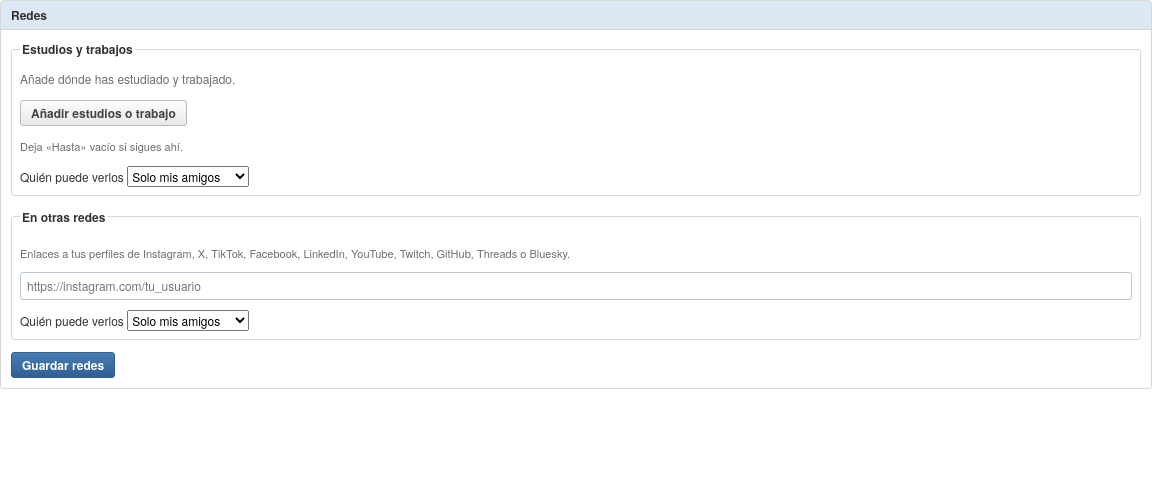
Test: Perfil: Redes, estado, espacio personal y tablón › saves studies, work and social links with their privacy
The image size is (1152, 493).
Click the button "Añadir estudios o trabajo" at point(103, 113), box [20,100,187,126]
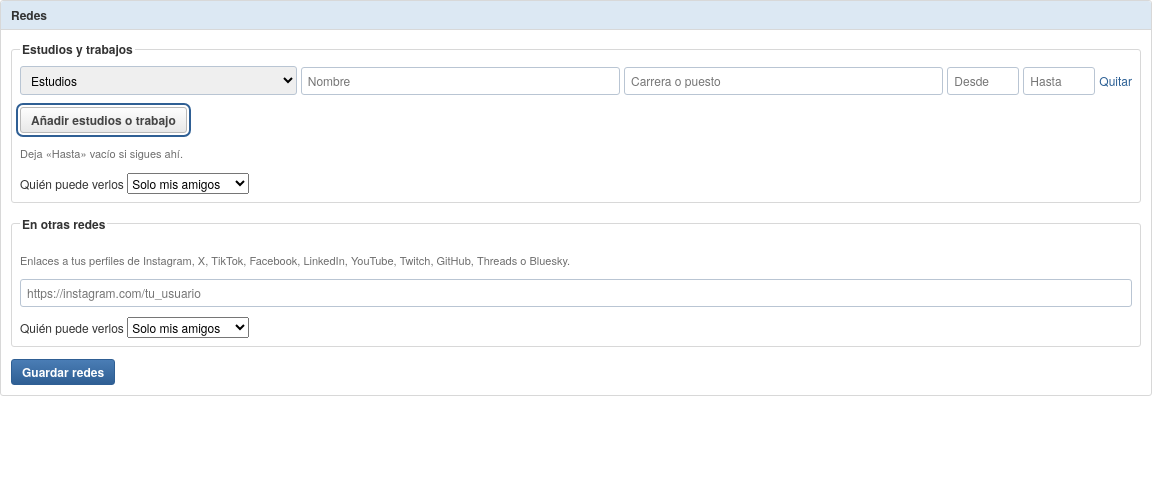
Type "UNED" into the field named "Nombre (universidad, empresa o colegio)" at point(460, 80), box [301,66,620,94]
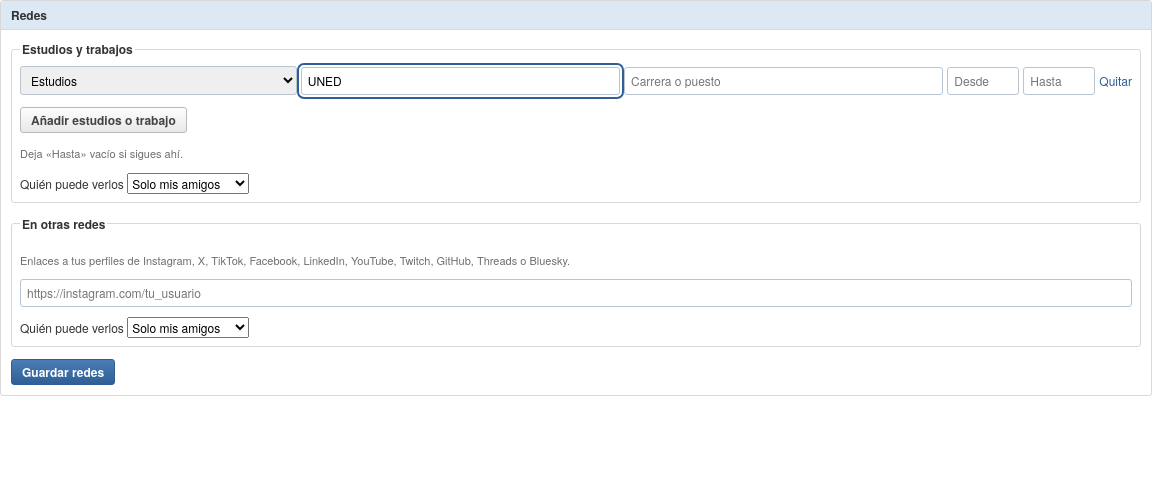
Type "2006" into the number field named "Desde (año)" at point(983, 80), box [947,66,1019,94]
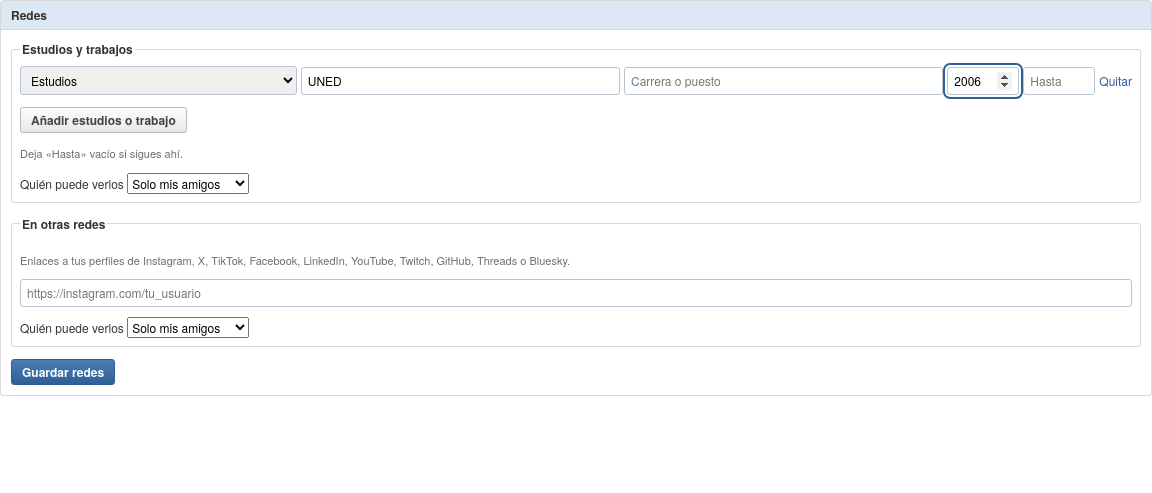
Type "https://instagram.com/ana" into the field named "Enlace 1" at point(576, 293), box [20,279,1132,307]
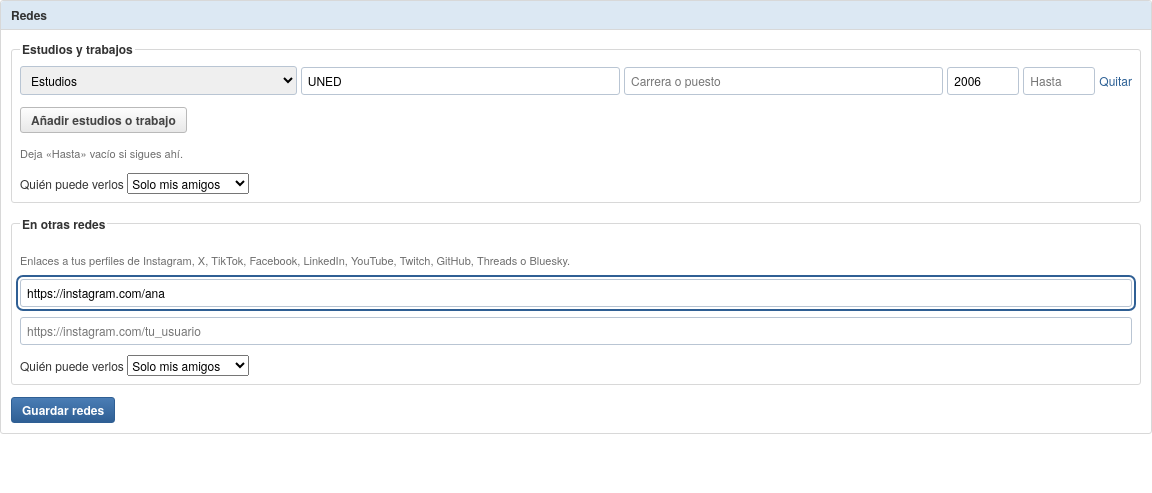
Select "Todos los usuarios" in the dropdown labelled "Quién puede verlos" below "En otras redes" at point(188, 366), box [127,355,249,376]
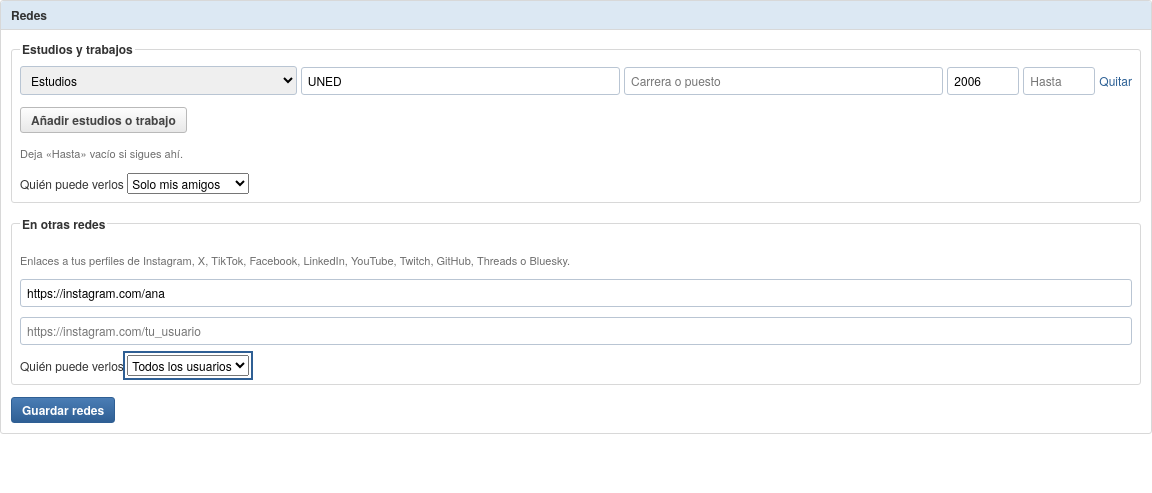
Click the button "Guardar redes" at point(63, 410), box [11,397,115,423]
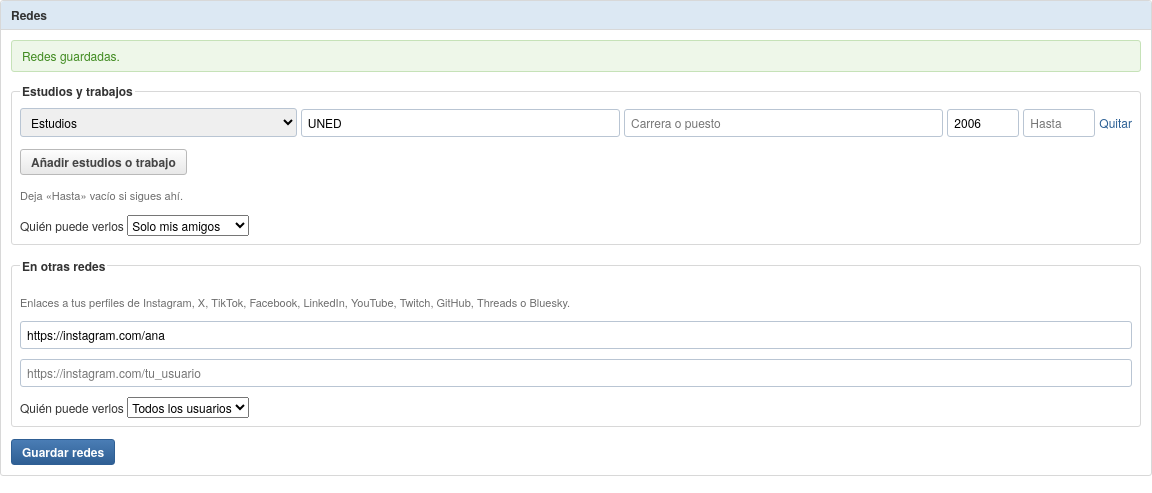
expect the text "Redes guardadas." is shown: met, box [11,40,1141,72]
